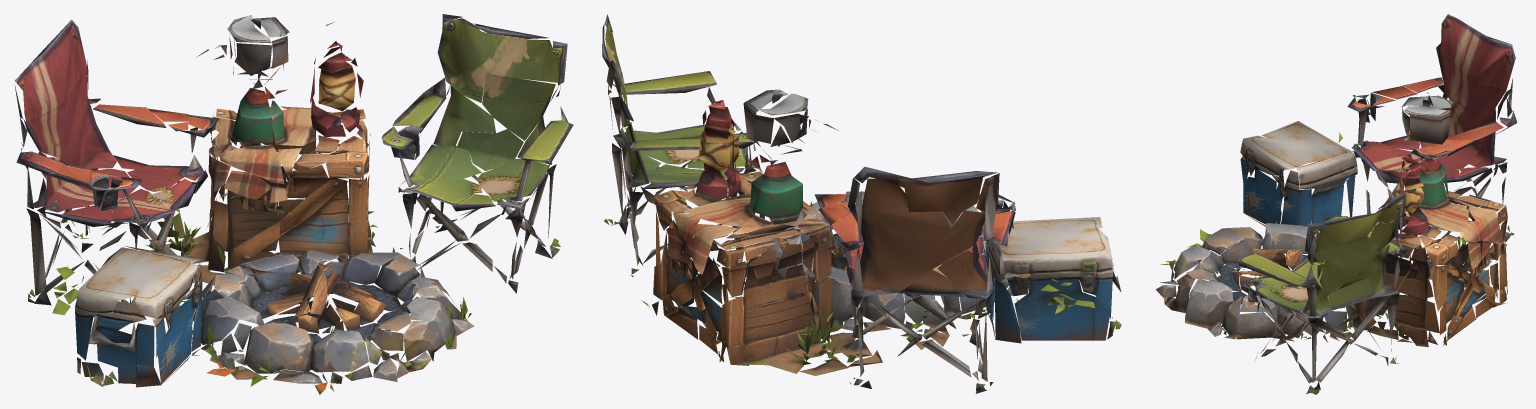
The model's file is campset.glb.
3 renders of one model, left to right at view 1: azimuth 30°, elevation 25°; view 2: azimuth 150°, elevation 25°; view 3: azimuth 270°, elevation 25°, orthographic. The views are drawn at different scales.
Parts seen in each view (by area): view 1: tripo_node_13910663-94db-44ae-a5ef-75966a3cc618; view 2: tripo_node_13910663-94db-44ae-a5ef-75966a3cc618; view 3: tripo_node_13910663-94db-44ae-a5ef-75966a3cc618.
Part boxes in pixels (left/top/right/bottom): tripo_node_13910663-94db-44ae-a5ef-75966a3cc618: left=14, top=14, right=573, bottom=394; tripo_node_13910663-94db-44ae-a5ef-75966a3cc618: left=602, top=14, right=1121, bottom=393; tripo_node_13910663-94db-44ae-a5ef-75966a3cc618: left=1156, top=14, right=1517, bottom=394.
Size of the model in its own units: 2.14 by 0.9855 by 1.61.
Materials: 1 (1 with a texture image).
